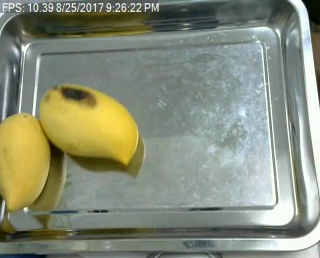Mango: (39, 84, 142, 165), (0, 111, 50, 213)
